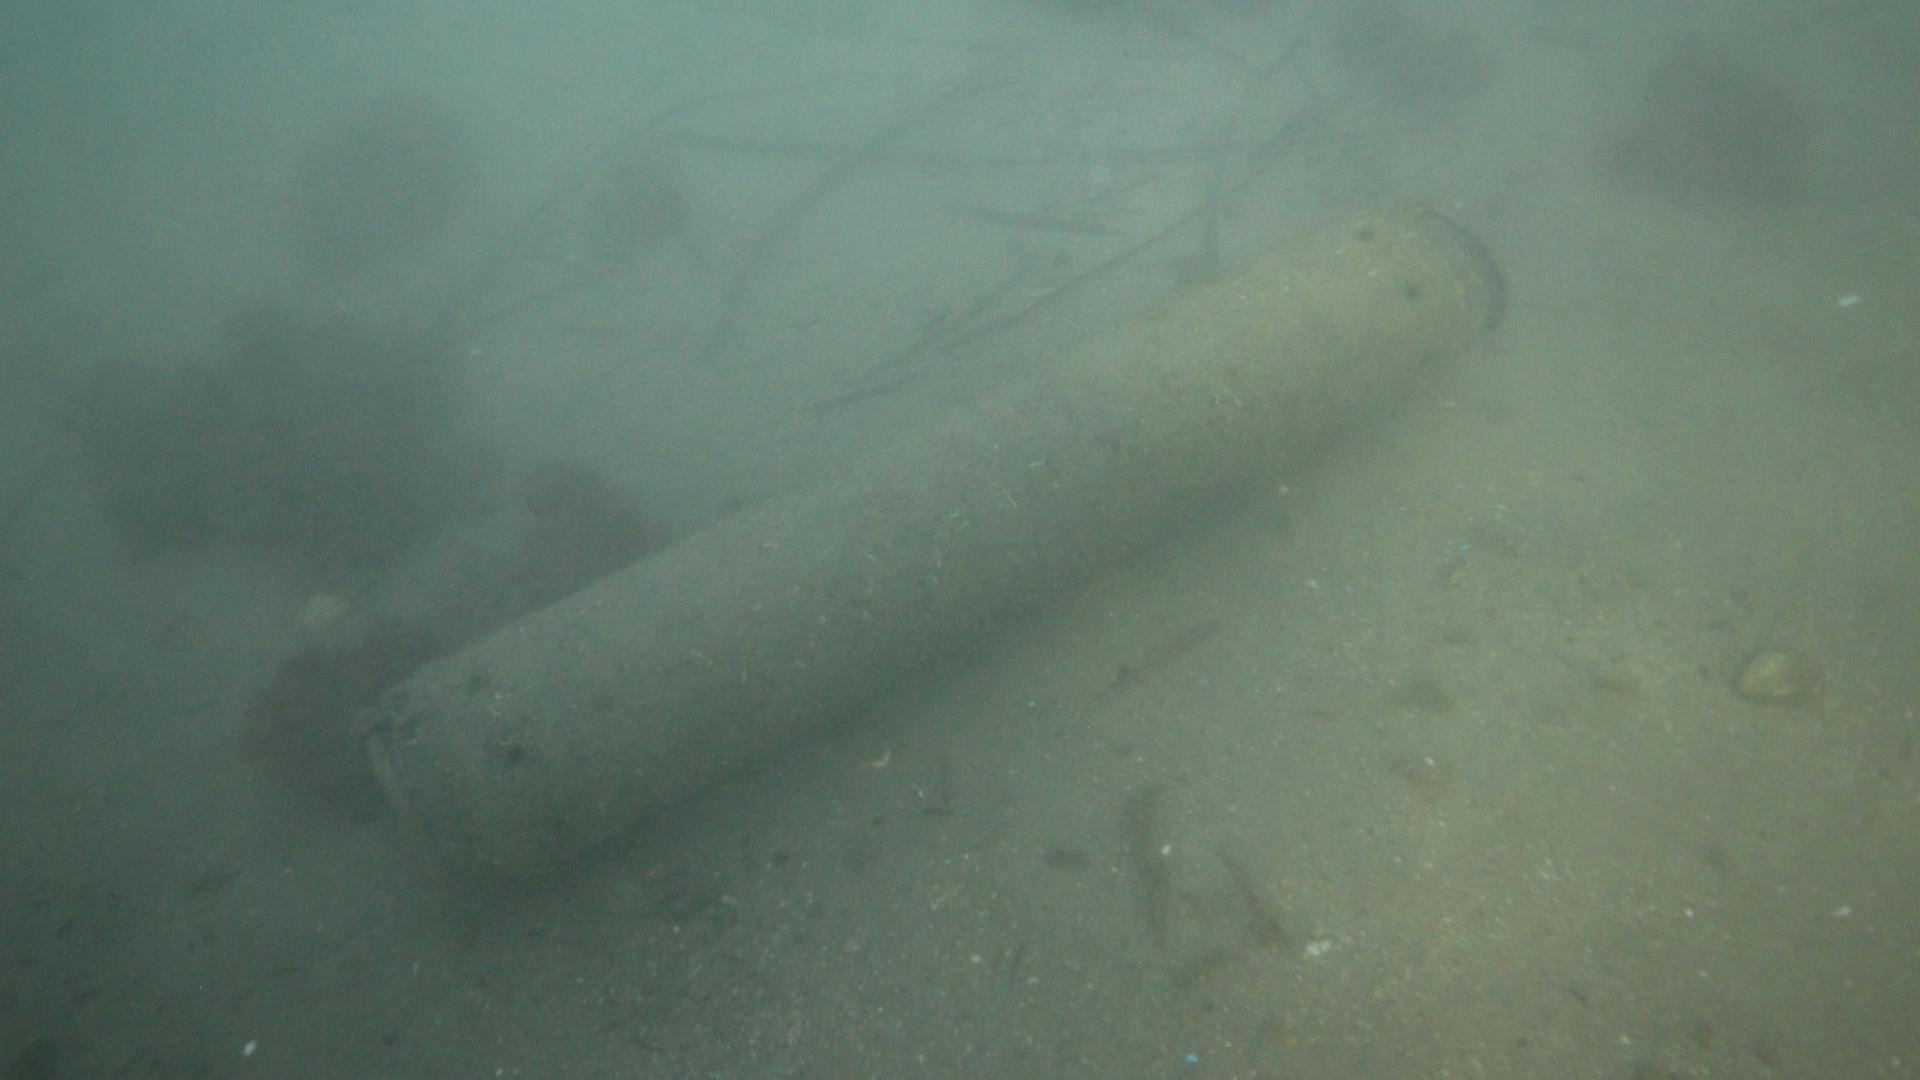eel fish trap: (351, 193, 1497, 886)
